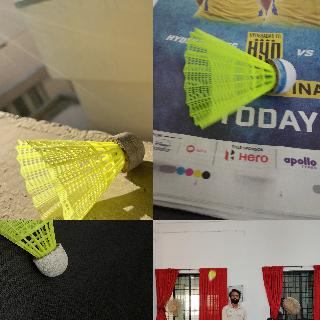shuttlecock: (15, 132, 145, 219), (182, 28, 294, 128), (0, 220, 68, 278), (208, 270, 216, 280)
